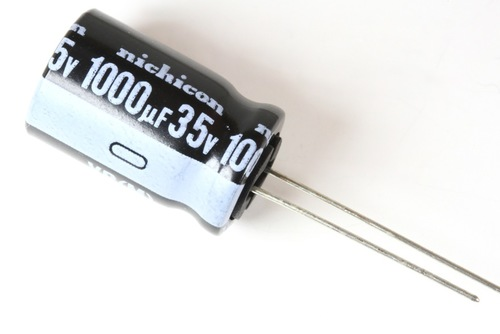capacitor: (19, 4, 325, 277)
